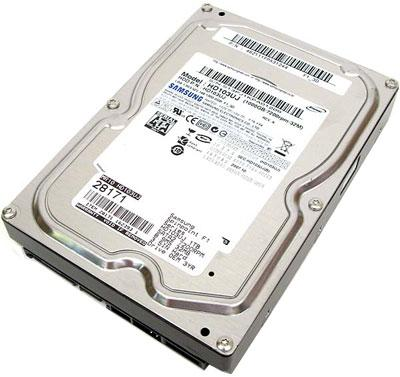internal HDD: (1, 3, 400, 375)
